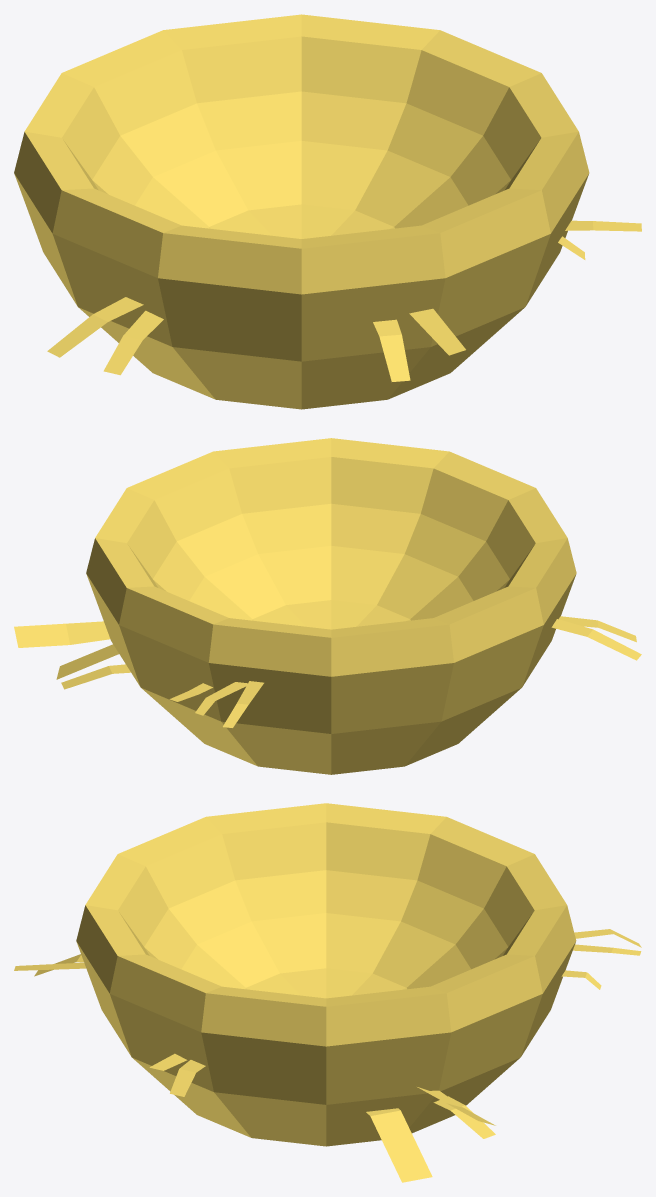
Rendered from nest.fbx.
3 renders of one model, top to bottom at view 1: azimuth 30°, elevation 25°; view 2: azimuth 150°, elevation 25°; view 3: azimuth 270°, elevation 25°, orthographic. The views are drawn at different scales.
Parts seen in each view (by area): view 1: nest; view 2: nest; view 3: nest.
Part boxes in pixels (x1,y1,x2,y2): nest: (14, 14, 641, 409); nest: (14, 438, 641, 774); nest: (14, 803, 641, 1182).
Size of the model in its own units: 246 by 81.65 by 261.
